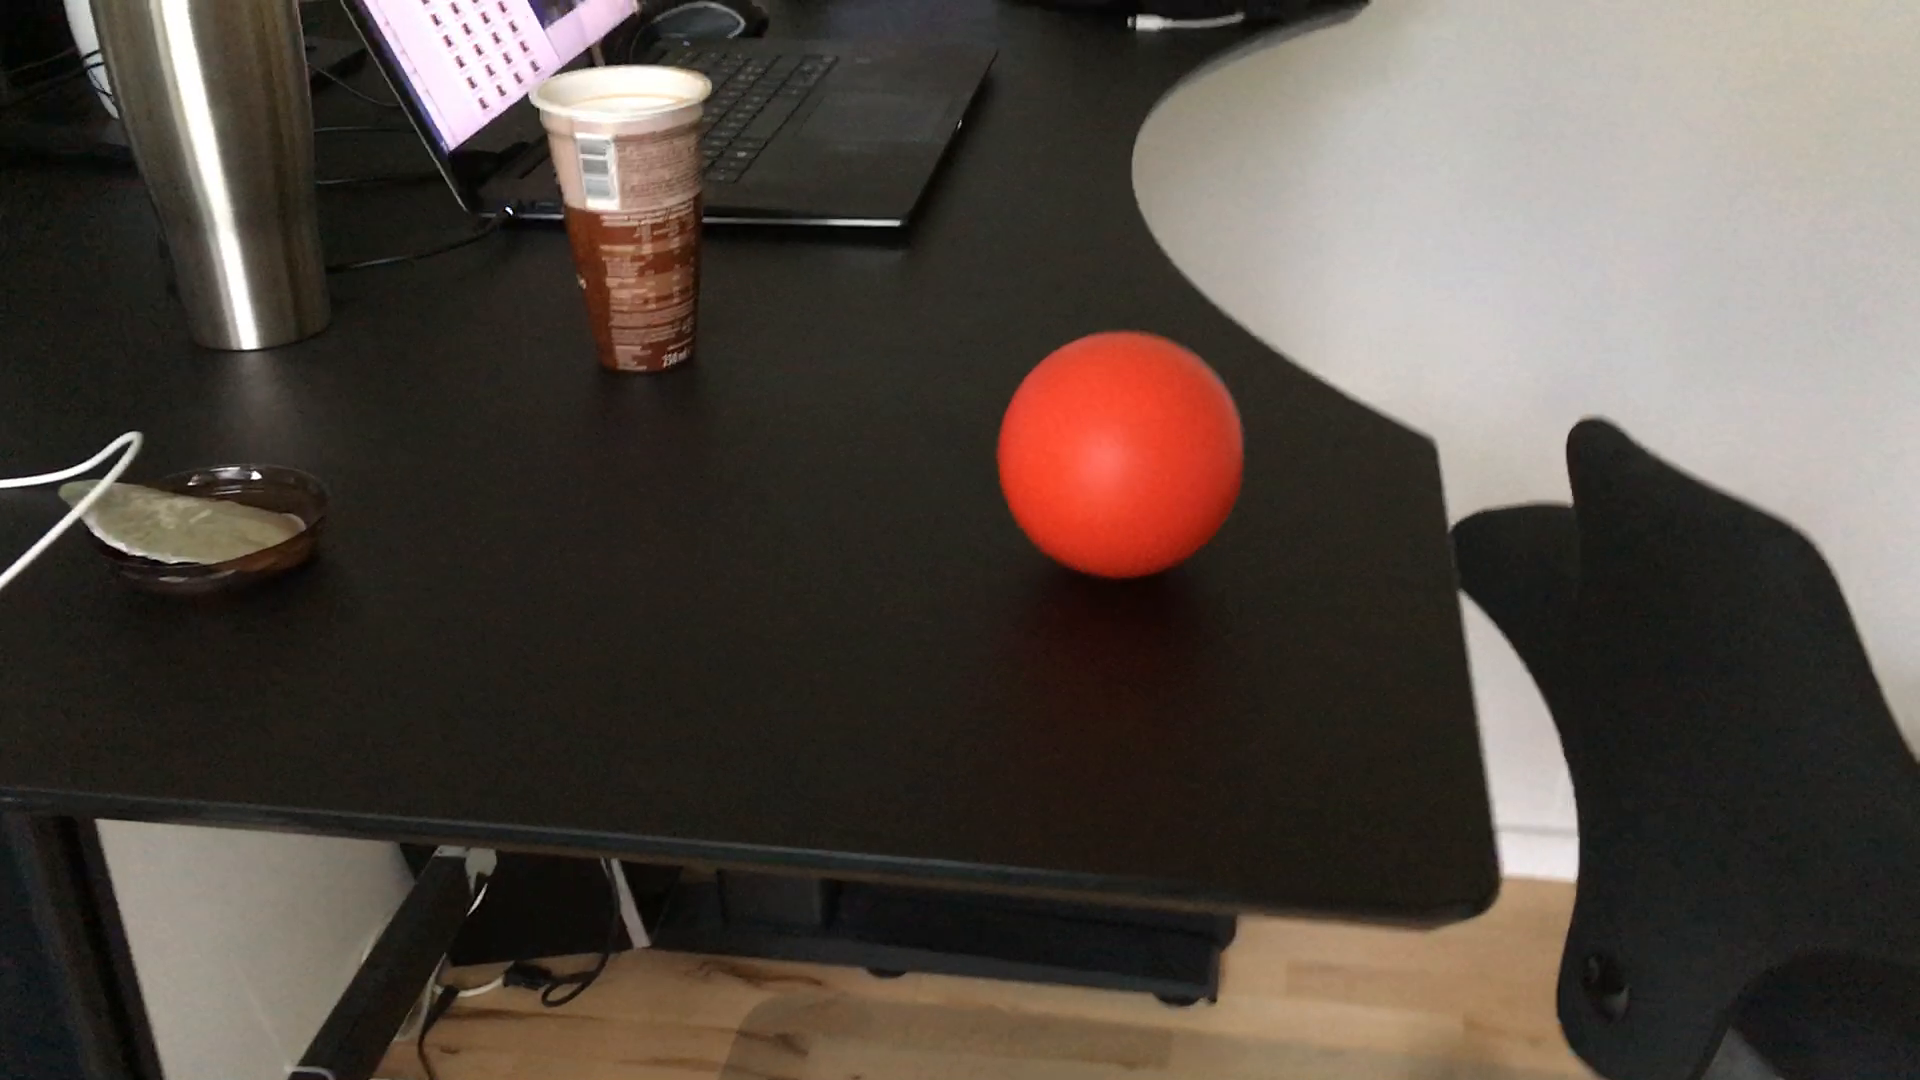Ball: (996, 322, 1251, 589)
